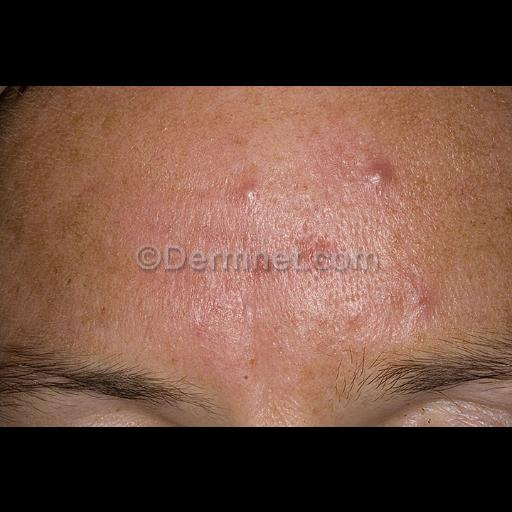Skin_Lesion: (288, 179, 372, 293), (359, 150, 399, 194), (233, 170, 267, 206), (250, 242, 280, 276), (404, 292, 438, 314), (242, 351, 262, 369)
